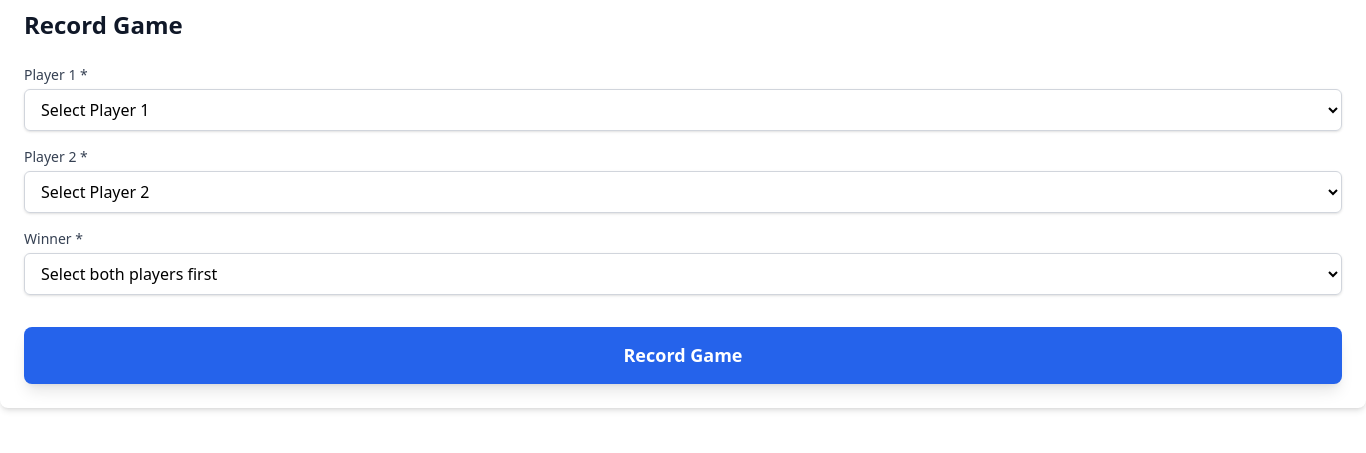
AddGameForm Integration Tests › validates that winner must be one of selected players
The image size is (1366, 453).
// Select players
Step 1. Select "Rookie Player" in the dropdown labelled "Player 1 *" → (683, 110), box [24, 89, 1342, 131]
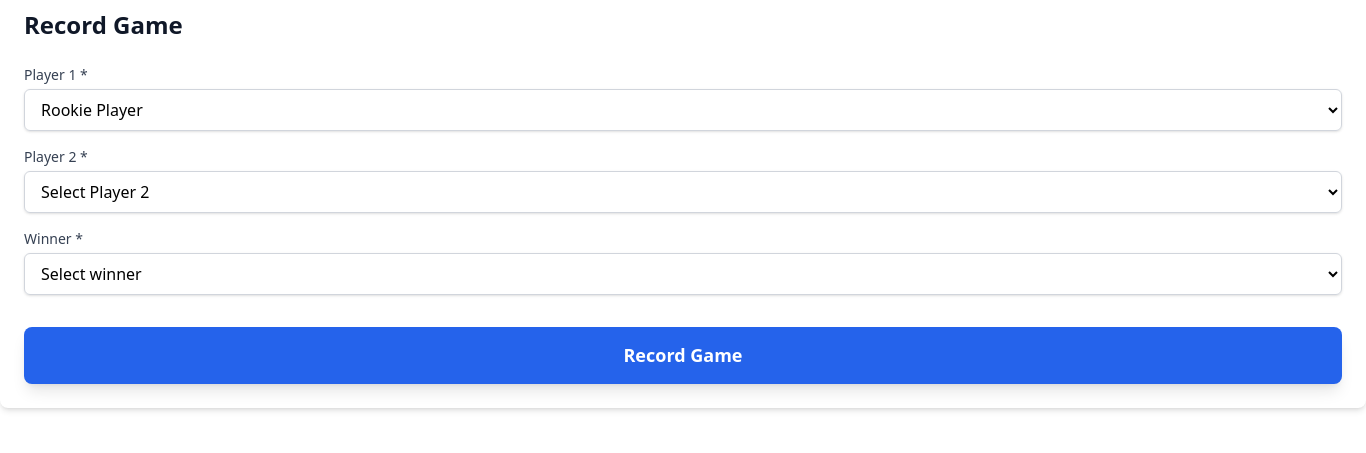
Step 2. Select "Pro Player" in the dropdown labelled "Player 2 *" → (683, 192), box [24, 171, 1342, 213]
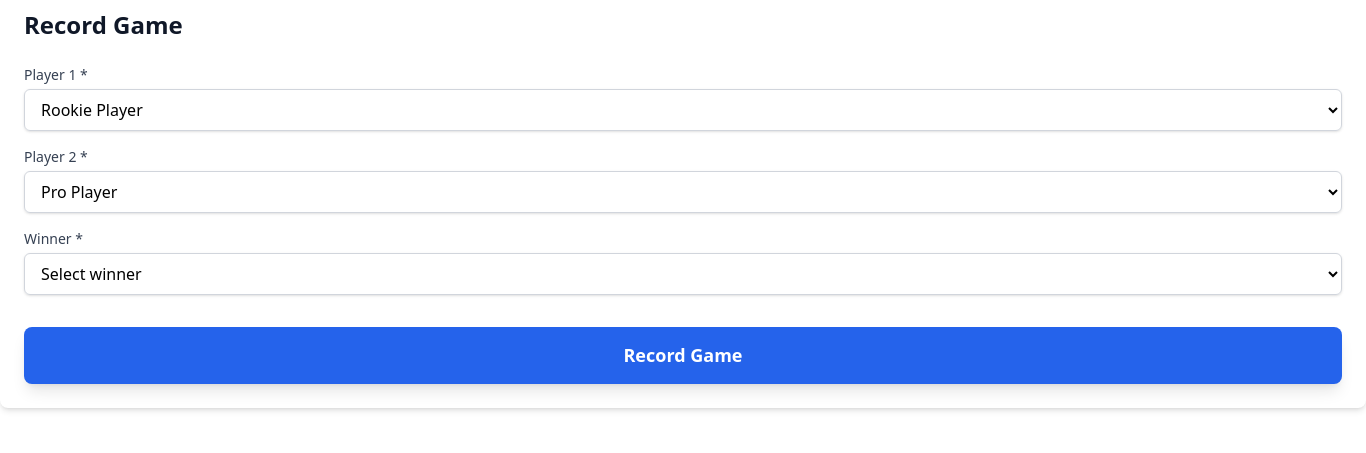
// Don't select winner, try to submit
Step 3. Click the button "Record Game" → (683, 355), box [24, 327, 1342, 384]
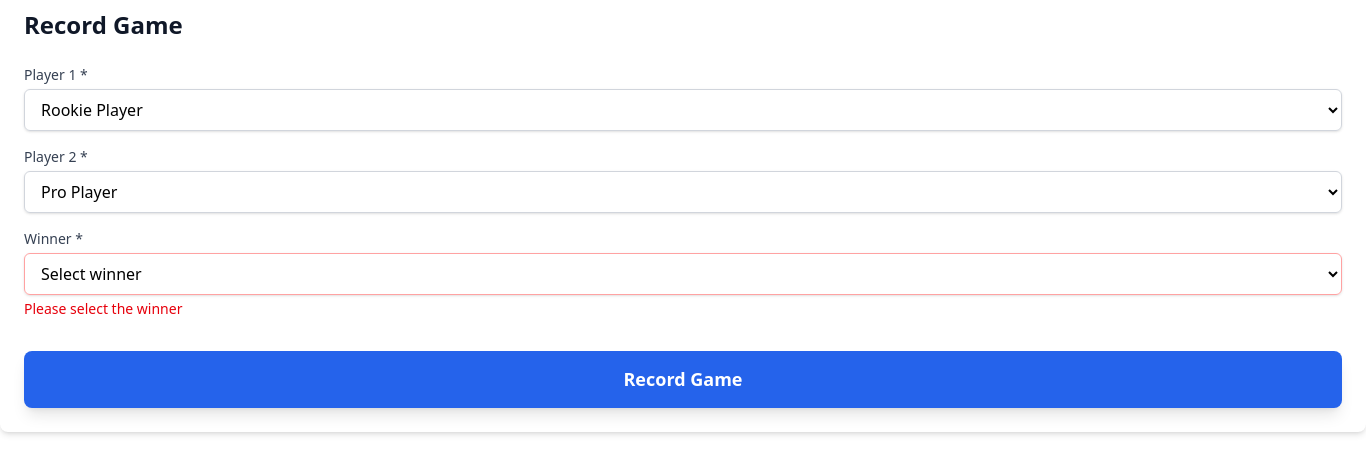
expect the button "Record Game" is enabled: met, box [24, 351, 1342, 408]
expect the text "Please select the winner" is shown: met, box [24, 299, 182, 318]
